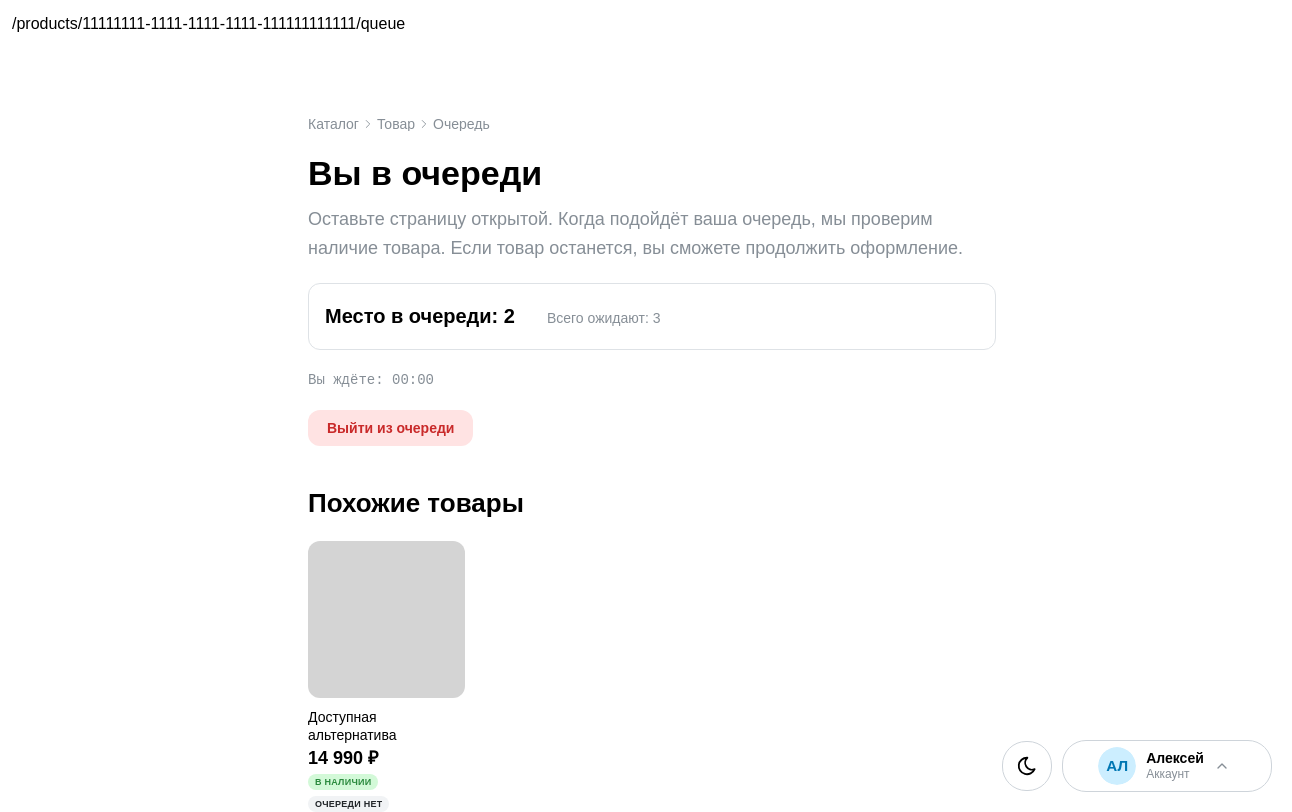
queue flow integration › restores a waiting attempt from a direct URL and cancels it through the backend
Expected: the heading "Вы в очереди" is shown, [308,154,542,192]
What coordinates should you click on to do the following:
click the button "Выйти из очереди"
I would click on:
 (391, 428)
Its box is [308,410,473,446].
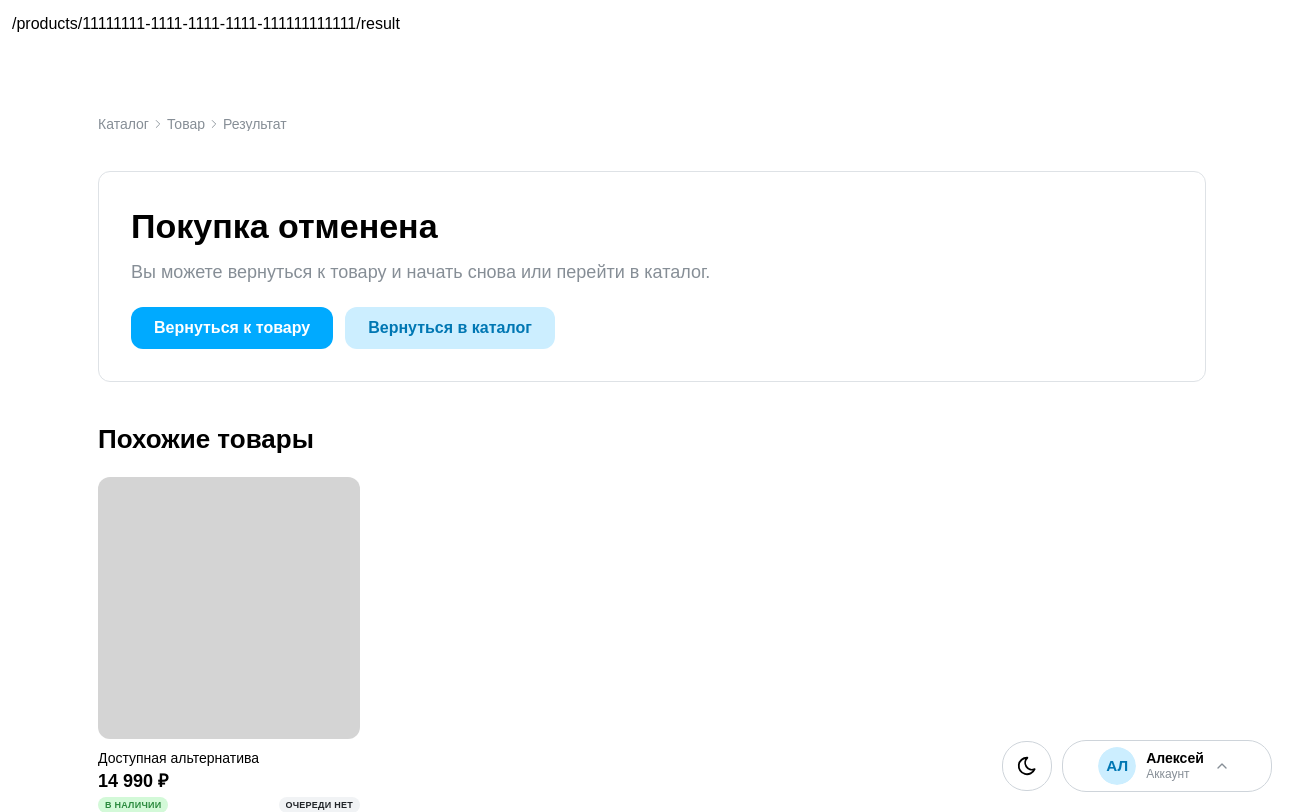
Expected: the heading "Покупка отменена" is shown, [131,207,438,245]
